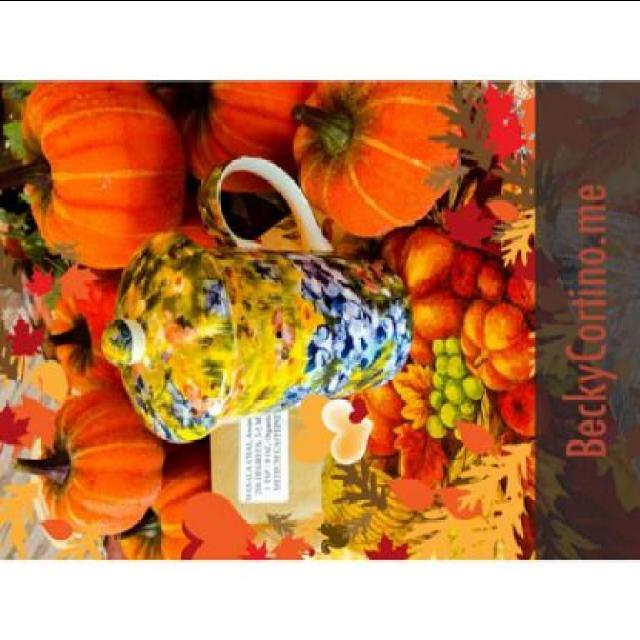Pumpkin: (0, 85, 194, 266), (291, 72, 463, 234), (12, 393, 176, 535), (160, 69, 322, 193), (105, 436, 217, 566), (48, 266, 128, 388), (454, 294, 548, 390)
